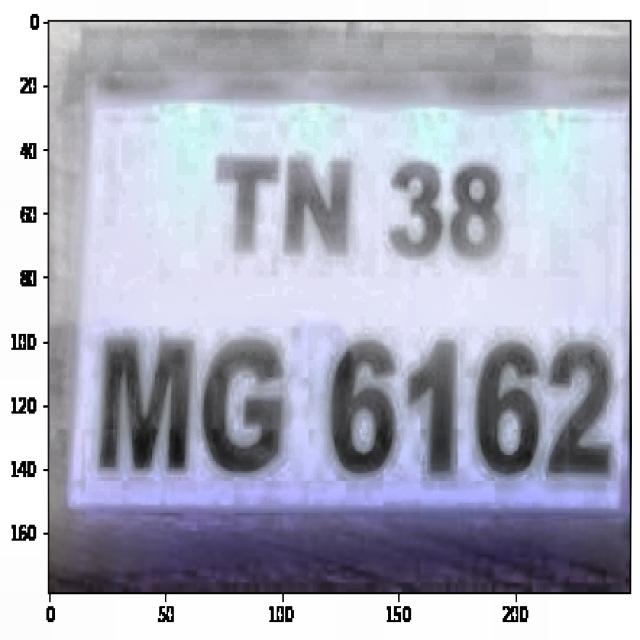license_plate: (86, 134, 624, 500)
